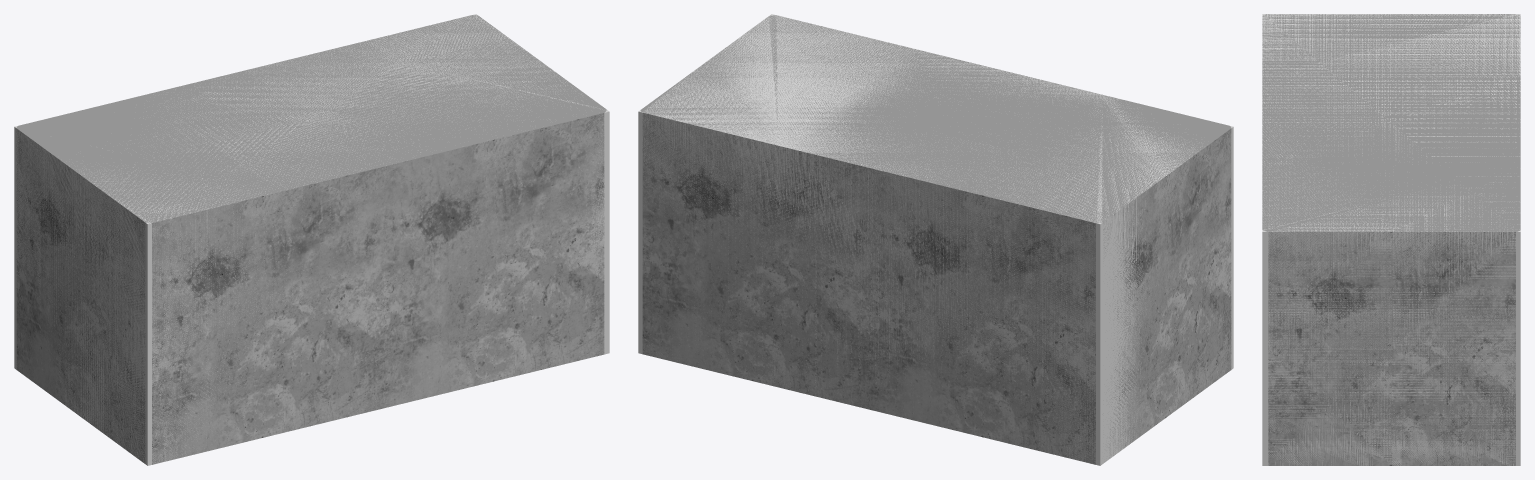
The model's file is SM_ButtressPier_03b.fbx.
3 views of the same model, side by side, from view 1: azimuth 30°, elevation 25°; view 2: azimuth 150°, elevation 25°; view 3: azimuth 270°, elevation 25° (orthographic). The views are drawn at different scales.
Parts seen in each view (by area): view 1: SM_ButtressPier_03b_LOD0, SM_ButtressPier_03b_ConvexHulls; view 2: SM_ButtressPier_03b_LOD0, SM_ButtressPier_03b_ConvexHulls; view 3: SM_ButtressPier_03b_LOD0, SM_ButtressPier_03b_ConvexHulls.
Boxes of the visible parts, <box> form: SM_ButtressPier_03b_LOD0: <box>16,15,606,464</box>; SM_ButtressPier_03b_ConvexHulls: <box>14,14,609,465</box>; SM_ButtressPier_03b_LOD0: <box>640,15,1231,464</box>; SM_ButtressPier_03b_ConvexHulls: <box>638,14,1233,465</box>; SM_ButtressPier_03b_LOD0: <box>1262,14,1520,465</box>; SM_ButtressPier_03b_ConvexHulls: <box>1262,14,1520,465</box>.
Bounding box in the file's own units: 800 × 400 × 400.
